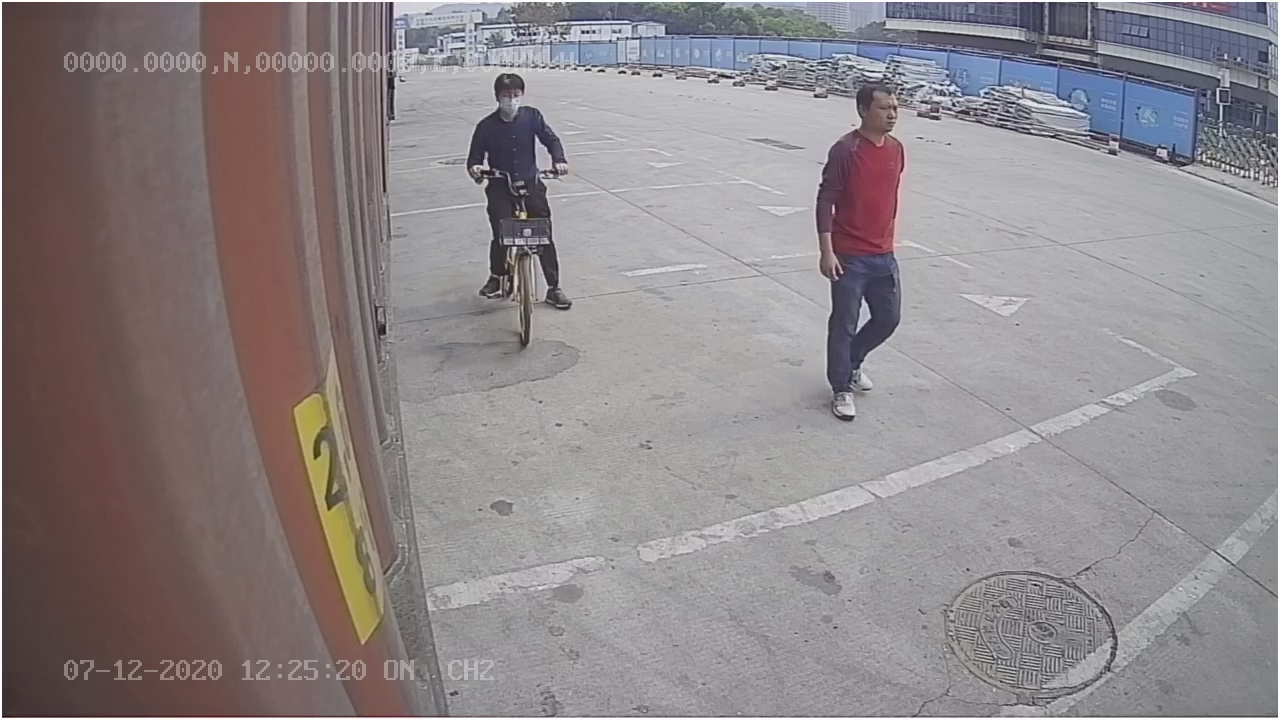person: (807, 75, 909, 428)
